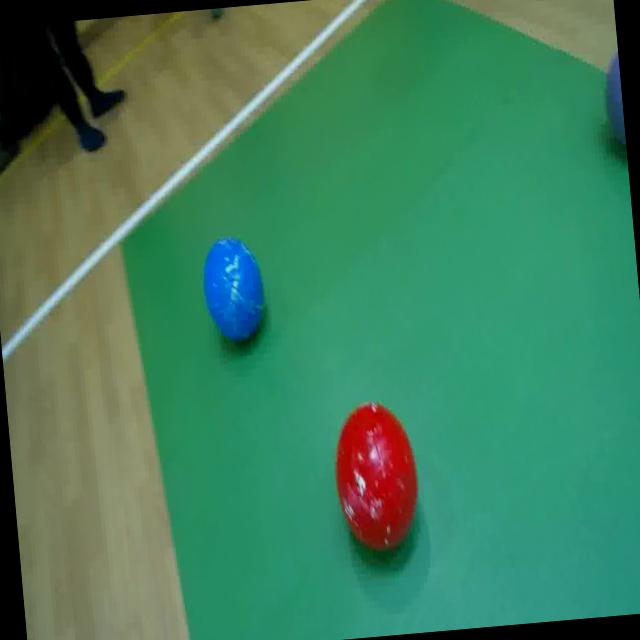blue_ball: (200, 237, 274, 349)
red_ball: (330, 395, 426, 555)
